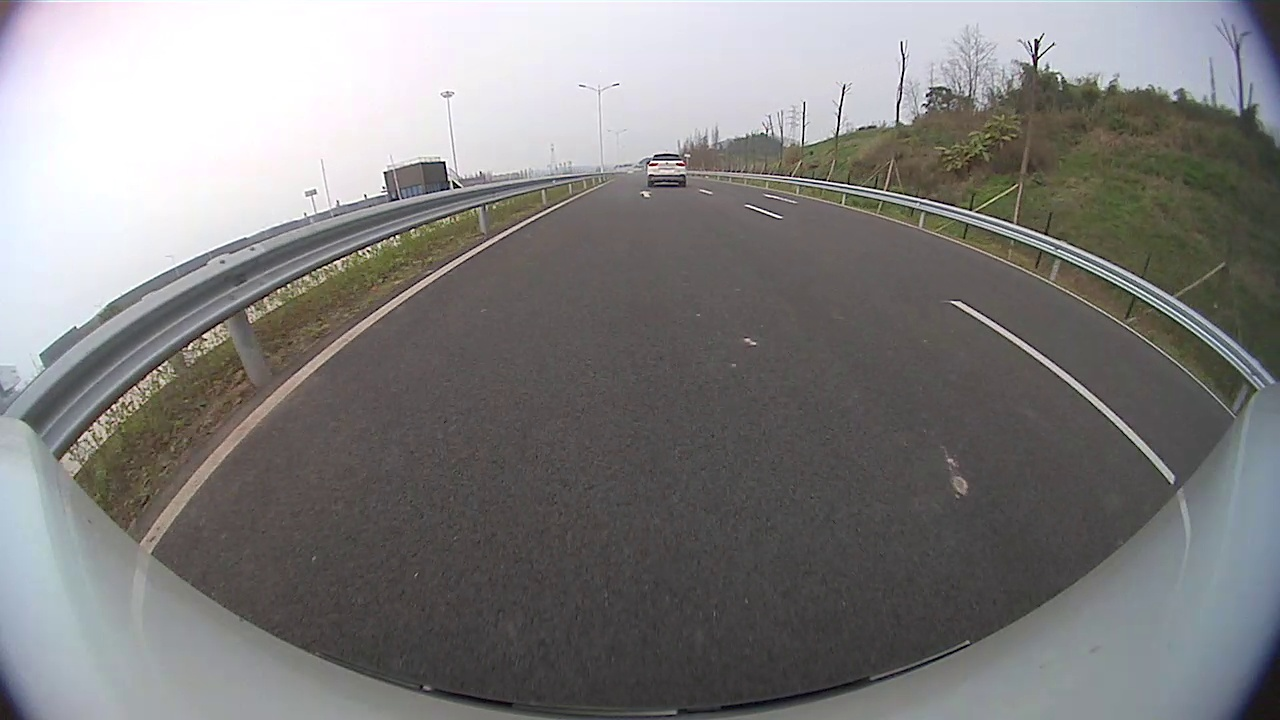car: (646, 153, 686, 187)
